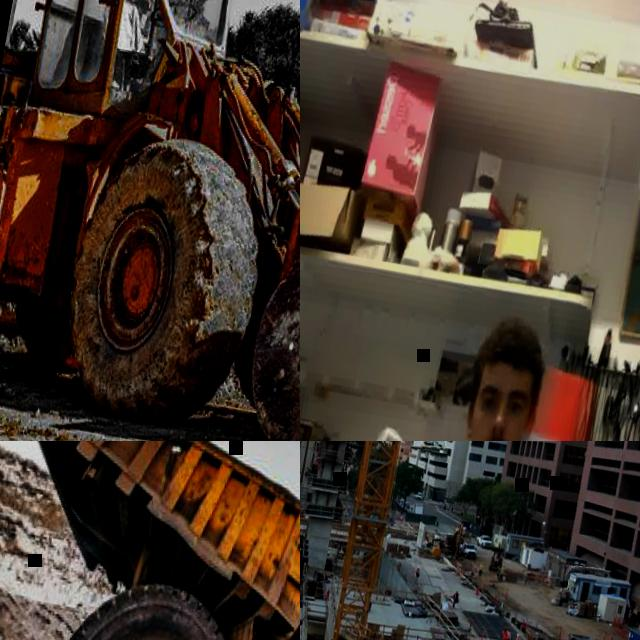Hardhat: (516, 632, 520, 635), (416, 565, 419, 567), (530, 639, 533, 640)
NO-Hardhat: (478, 318, 548, 381)
Person: (376, 304, 640, 441), (451, 589, 459, 607), (502, 627, 511, 640), (498, 627, 507, 640), (476, 562, 484, 576), (414, 565, 422, 578), (512, 631, 521, 640), (324, 589, 330, 602)
Safety Cone: (427, 348, 635, 441), (612, 615, 620, 632), (478, 629, 484, 640), (600, 628, 605, 640), (494, 595, 500, 605), (608, 631, 614, 640), (474, 586, 480, 595), (481, 579, 486, 589), (504, 587, 508, 598), (560, 632, 565, 640)
Safety Vest: (500, 630, 506, 640), (504, 631, 510, 639), (478, 564, 482, 570), (515, 636, 520, 640), (326, 591, 328, 597)
vehicle: (0, 0, 300, 441), (0, 441, 300, 640), (438, 515, 468, 560), (488, 546, 504, 572), (458, 540, 478, 559), (476, 533, 494, 548)
